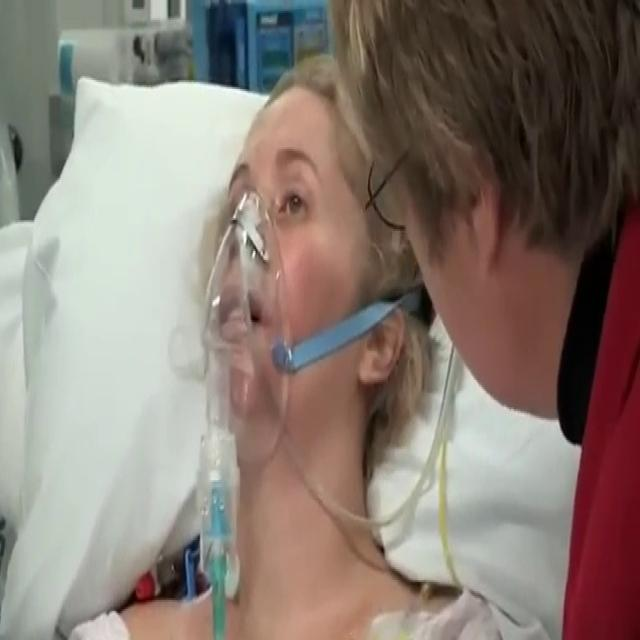others: (330, 0, 639, 638)
patient: (62, 51, 553, 638)
